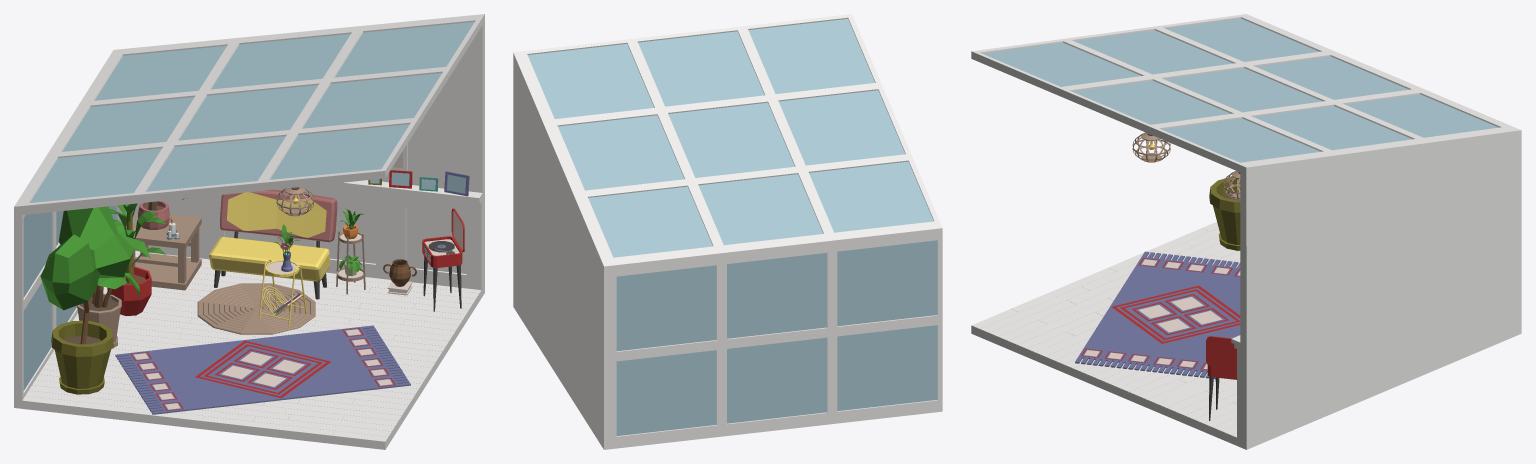
Rendered from Room_17_Greenhouse.fbx.
3 views of the same model, side by side, from view 1: azimuth 30°, elevation 25°; view 2: azimuth 150°, elevation 25°; view 3: azimuth 270°, elevation 25° (orthographic). The views are drawn at different scales.
Visible parts, largest first — view 1: Room_17_Window, Room_17_Parquet, Room_17_Carpet_2, Room_17_Panel, Room_17_Base, Room_17_Plant_1, Room_17_Couch, Room_17_Carpet_1, Room_17_Table_2, Room_17_Plant_3, Room_17_Vinyl_player, Room_17_Plant_2 (+6 smaller); view 2: Room_17_Window, Room_17_Base; view 3: Room_17_Base, Room_17_Window, Room_17_Parquet, Room_17_Carpet_2, Room_17_Plant_1, Room_17_Vinyl_player, Room_17_Chandelier_1.
Part boxes in pixels (bbox=[...]): Room_17_Window: bbox=[14, 17, 482, 400]; Room_17_Parquet: bbox=[22, 251, 481, 442]; Room_17_Carpet_2: bbox=[115, 325, 410, 414]; Room_17_Panel: bbox=[118, 180, 482, 290]; Room_17_Base: bbox=[14, 14, 484, 449]; Room_17_Plant_1: bbox=[40, 206, 134, 394]; Room_17_Couch: bbox=[209, 189, 337, 299]; Room_17_Carpet_1: bbox=[197, 283, 315, 334]; Room_17_Table_2: bbox=[132, 214, 201, 290]; Room_17_Plant_3: bbox=[107, 203, 166, 315]; Room_17_Vinyl_player: bbox=[422, 208, 464, 311]; Room_17_Plant_2: bbox=[76, 234, 150, 349]; Room_17_Window: bbox=[521, 14, 942, 441]; Room_17_Base: bbox=[513, 51, 942, 449]; Room_17_Base: bbox=[971, 127, 1521, 449]; Room_17_Window: bbox=[971, 14, 1514, 171]; Room_17_Parquet: bbox=[971, 222, 1240, 437]; Room_17_Carpet_2: bbox=[1075, 251, 1240, 379]; Room_17_Plant_1: bbox=[1209, 176, 1240, 250]; Room_17_Vinyl_player: bbox=[1206, 336, 1236, 420]; Room_17_Chandelier_1: bbox=[1132, 132, 1170, 162].
Size of the model in its own units: 707 by 707 by 401.
